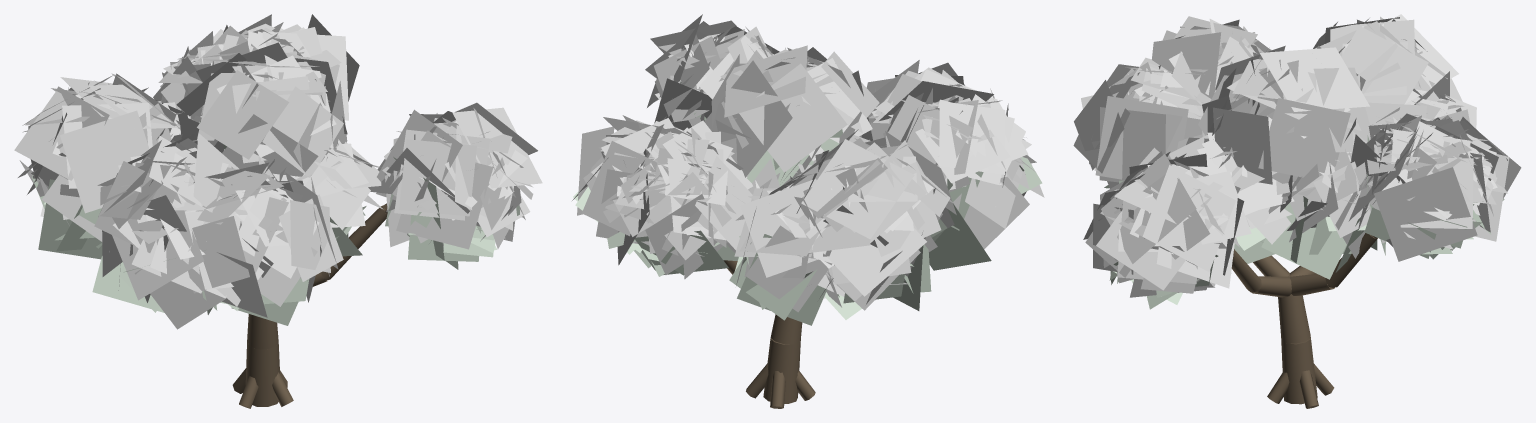
Rendered from tree_broadleaf.glb.
3 renders of one model, left to right at view 1: azimuth 30°, elevation 25°; view 2: azimuth 150°, elevation 25°; view 3: azimuth 270°, elevation 25°, orthographic. The views are drawn at different scales.
Parts seen in each view (by area): view 1: tree_broadleaf_body; view 2: tree_broadleaf_body; view 3: tree_broadleaf_body.
Boxes of the visible parts, x1,y1,x2,y2 form: tree_broadleaf_body: (14, 14, 542, 408); tree_broadleaf_body: (572, 14, 1044, 408); tree_broadleaf_body: (1073, 14, 1521, 408).
Size of what is drawn, in the model's own units: 9.36 by 7.74 by 9.12.
